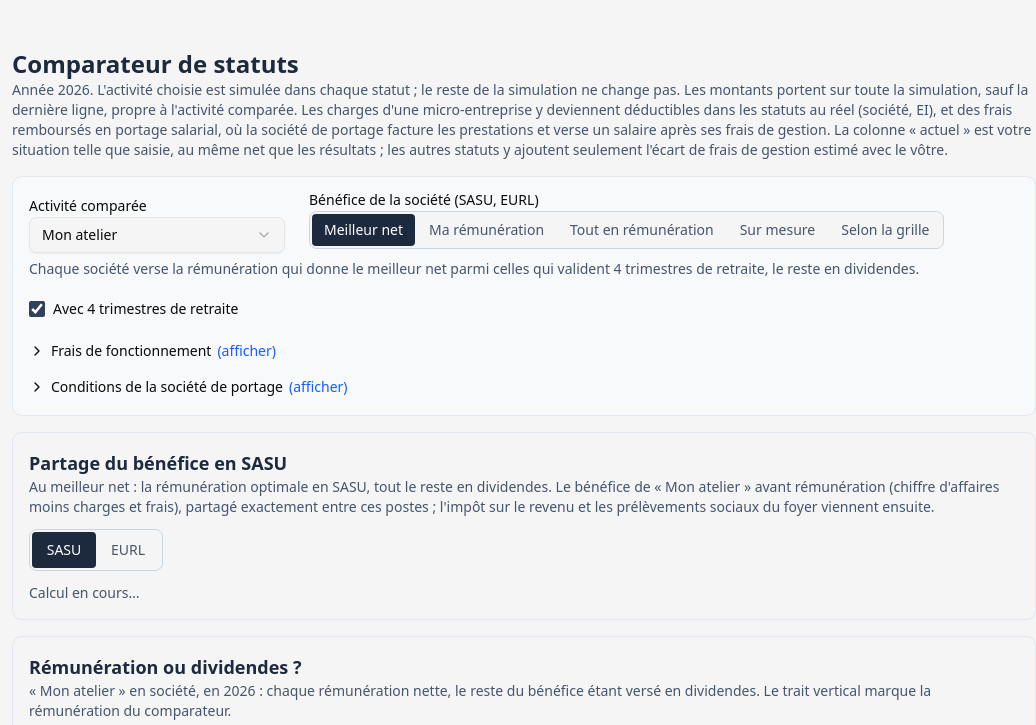
Test: partage du bénéfice dans le comparateur › passe d'un mode à l'autre, et ne demande pas de rémunération quand tout part en rémunération
The width and height of the screenshot is (1036, 725).
Expected: the radio button labelled "Meilleur net" is checked, [312,214,415,246]
Expected: the field labelled "Rémunération nette annuelle (SASU, EURL)" is not shown
Click the radio button labelled "Tout en rémunération": {"x": 642, "y": 230} [570,220,714,239]
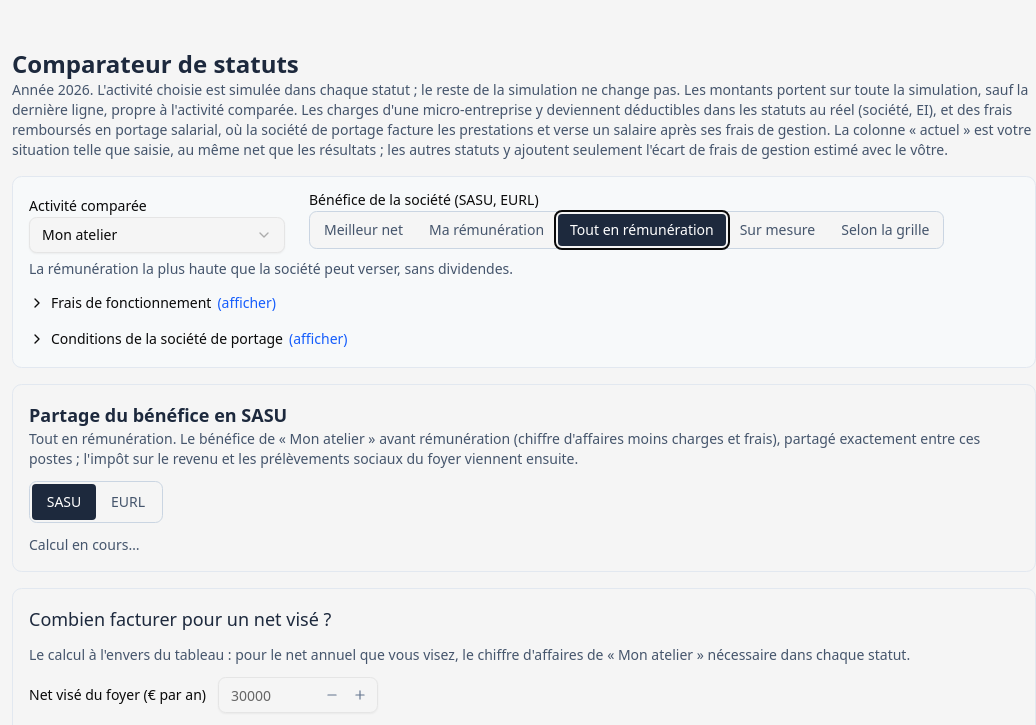
Expected: the field labelled "Rémunération nette annuelle (SASU, EURL)" is not shown
Click the radio button labelled "Sur mesure": {"x": 777, "y": 230} [740,220,815,239]
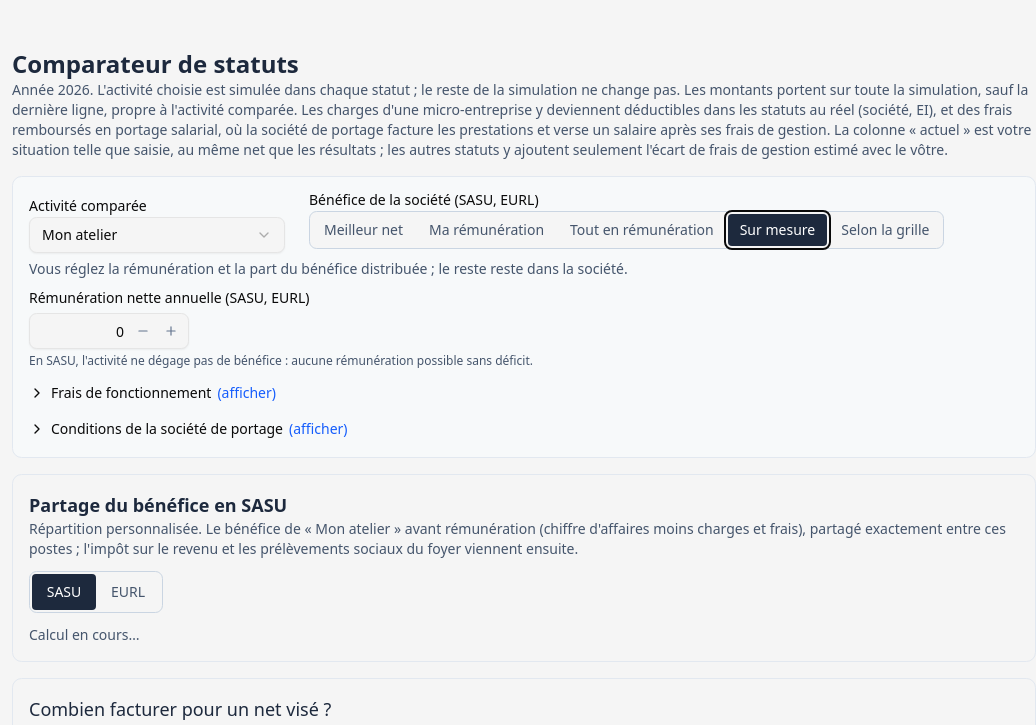
Result: the number field labelled "Rémunération nette annuelle (SASU, EURL)" is shown at [29,313,189,349]
